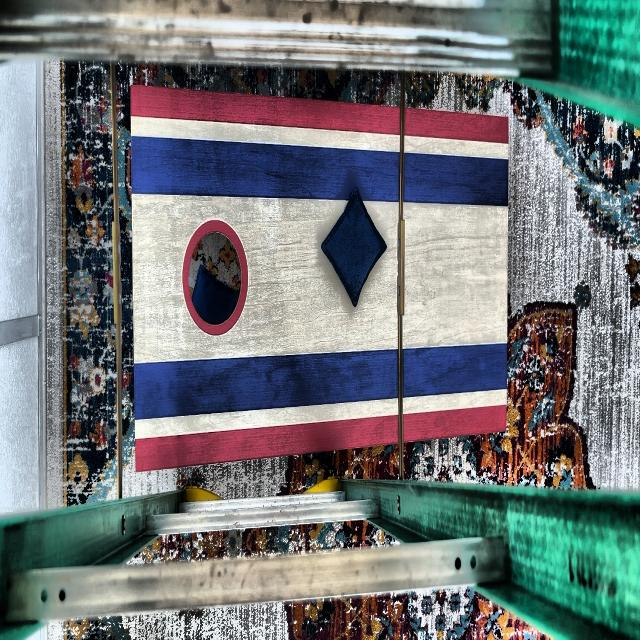blue-bean-bag: (321, 188, 387, 308)
blue-bean-bag-in-hole: (191, 266, 241, 323)
board: (134, 118, 505, 430)
hole: (182, 218, 249, 336)
